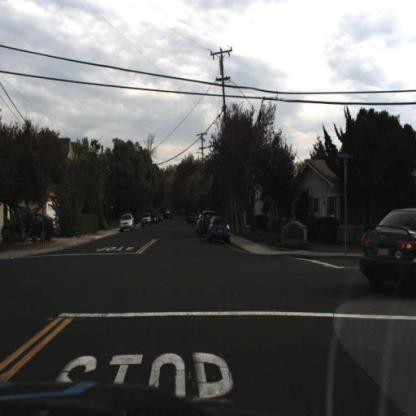car: (359, 206, 415, 300), (4, 211, 57, 239), (204, 213, 230, 245), (208, 214, 232, 243), (196, 209, 208, 238), (138, 206, 154, 227), (119, 212, 135, 232)
